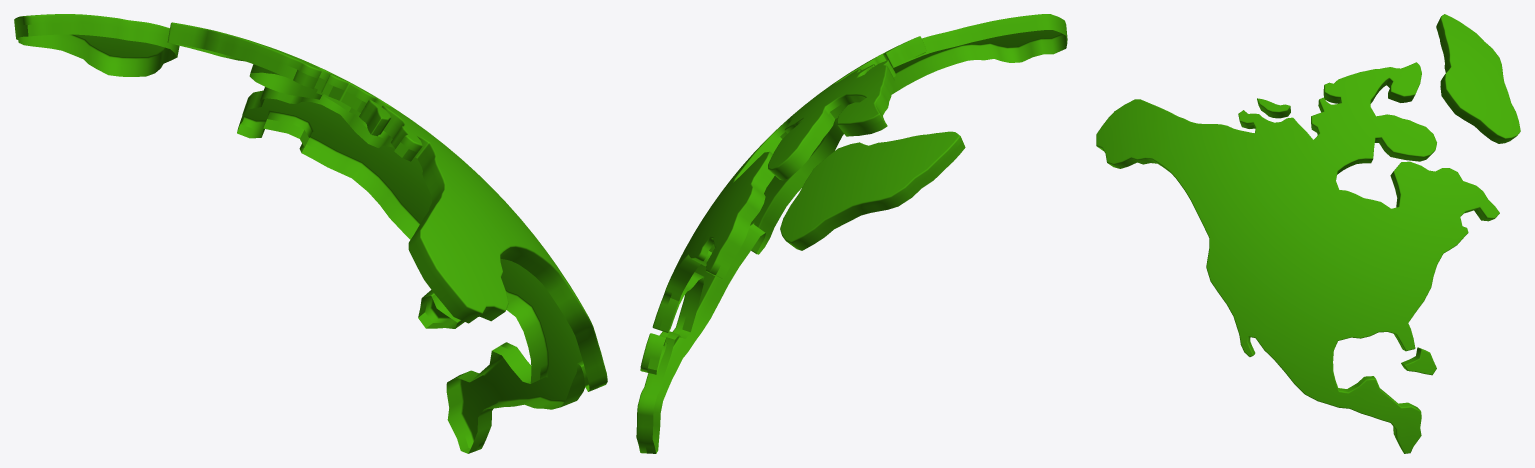
The picture shows the model from 3 angles, left to right: view 1: azimuth 30°, elevation 25°; view 2: azimuth 150°, elevation 25°; view 3: azimuth 270°, elevation 25°; orthographic projection. The views are drawn at different scales.
Parts seen in each view (by area): view 1: c6; view 2: c6; view 3: c6.
Part boxes in pixels (bbox=[...]): c6: bbox=[14, 14, 607, 453]; c6: bbox=[636, 14, 1067, 453]; c6: bbox=[1096, 14, 1520, 453].
Bounding box in the file's own units: 0.8861 × 0.9834 × 1.2.
